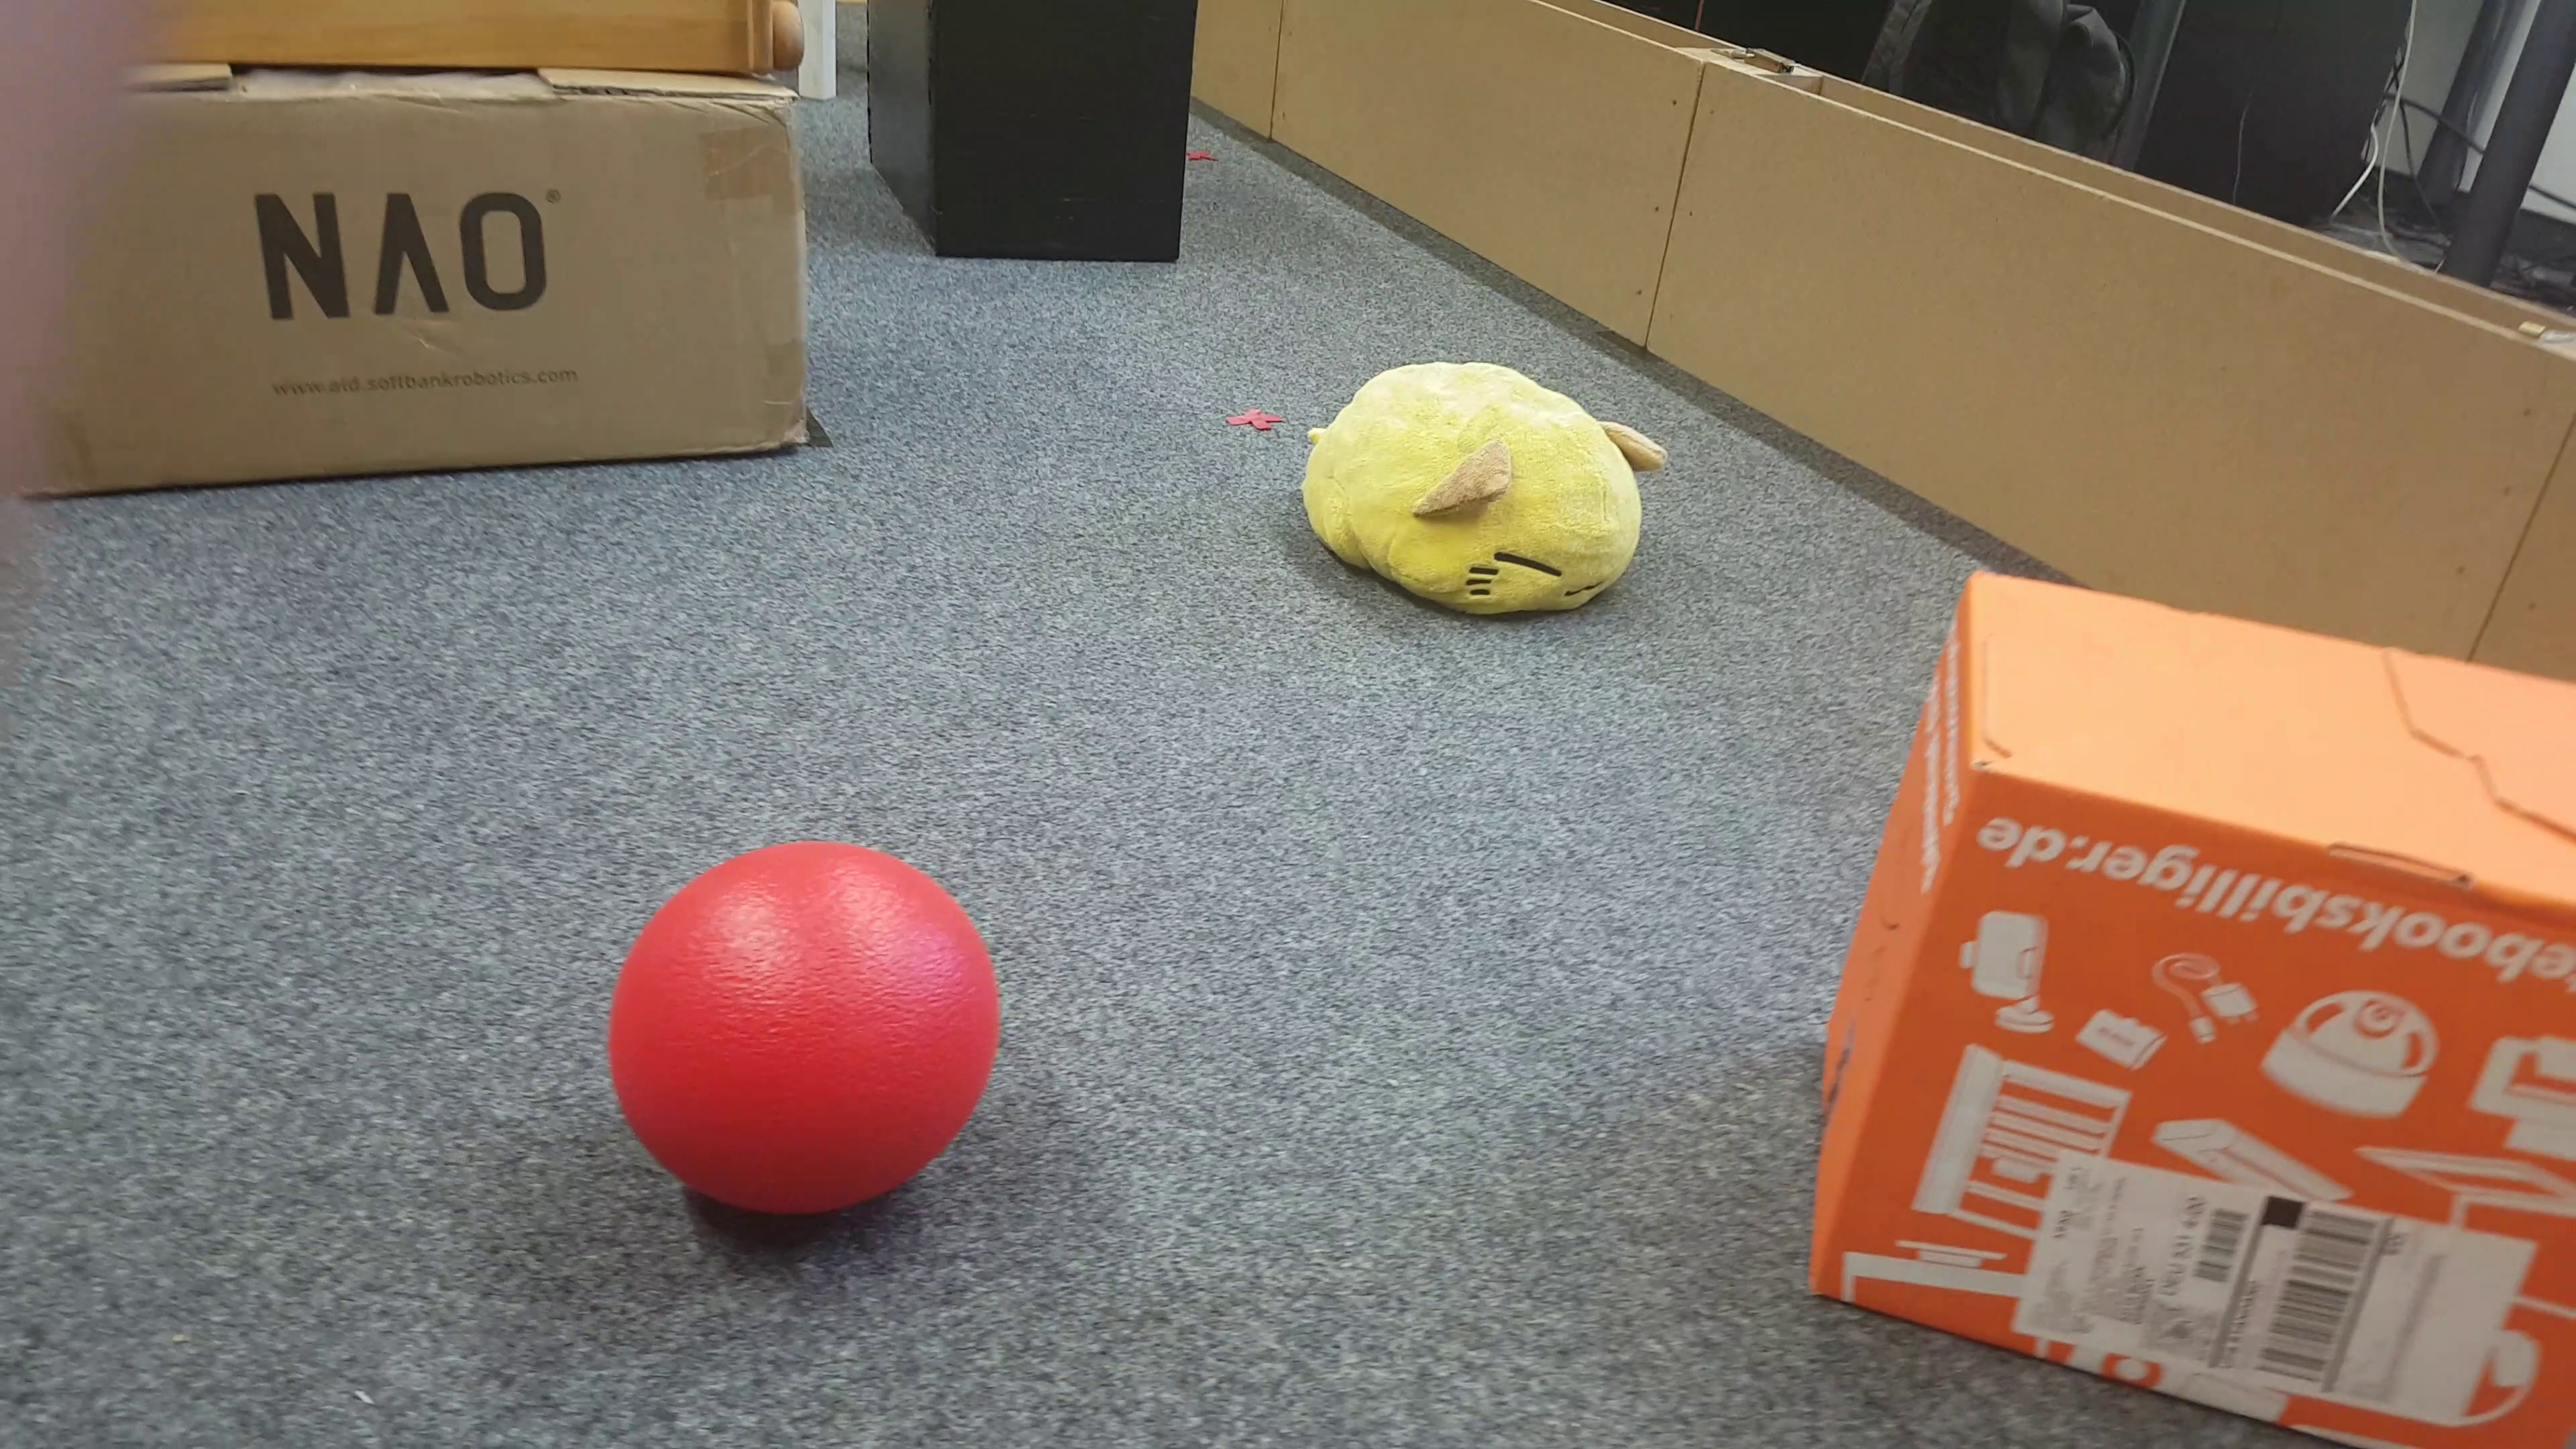grasp: (1299, 366, 1667, 617)
kick: (609, 839, 1001, 1207)
push: (1805, 564, 2535, 1449), (860, 0, 1194, 278)
